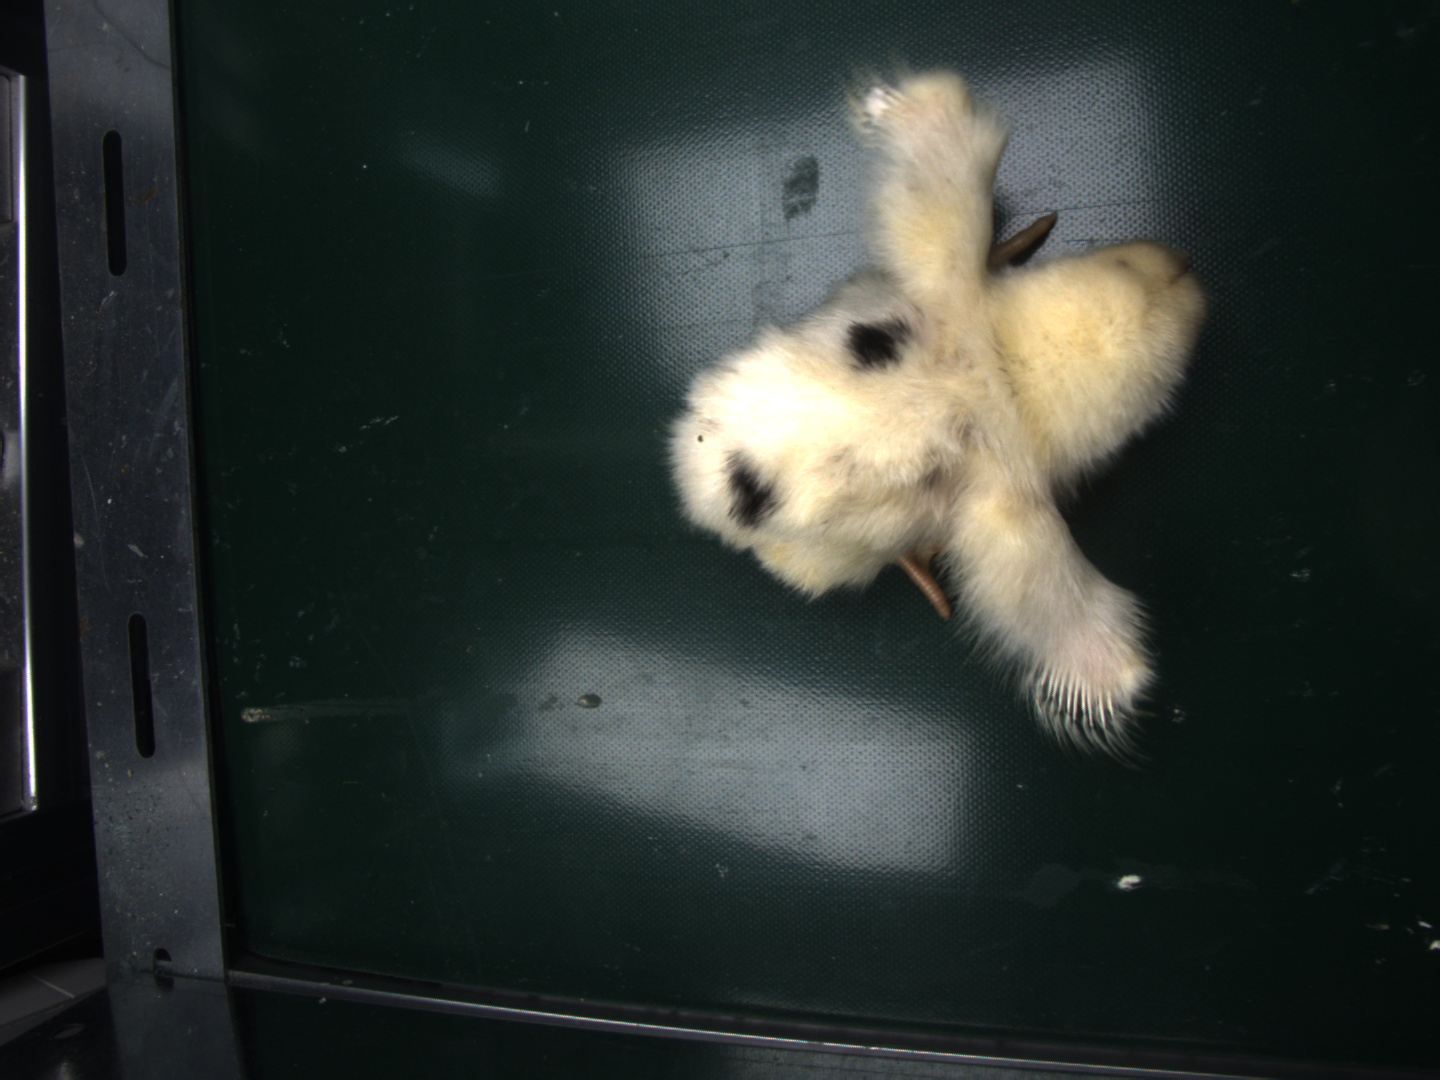male: (1030, 660, 1120, 729)
